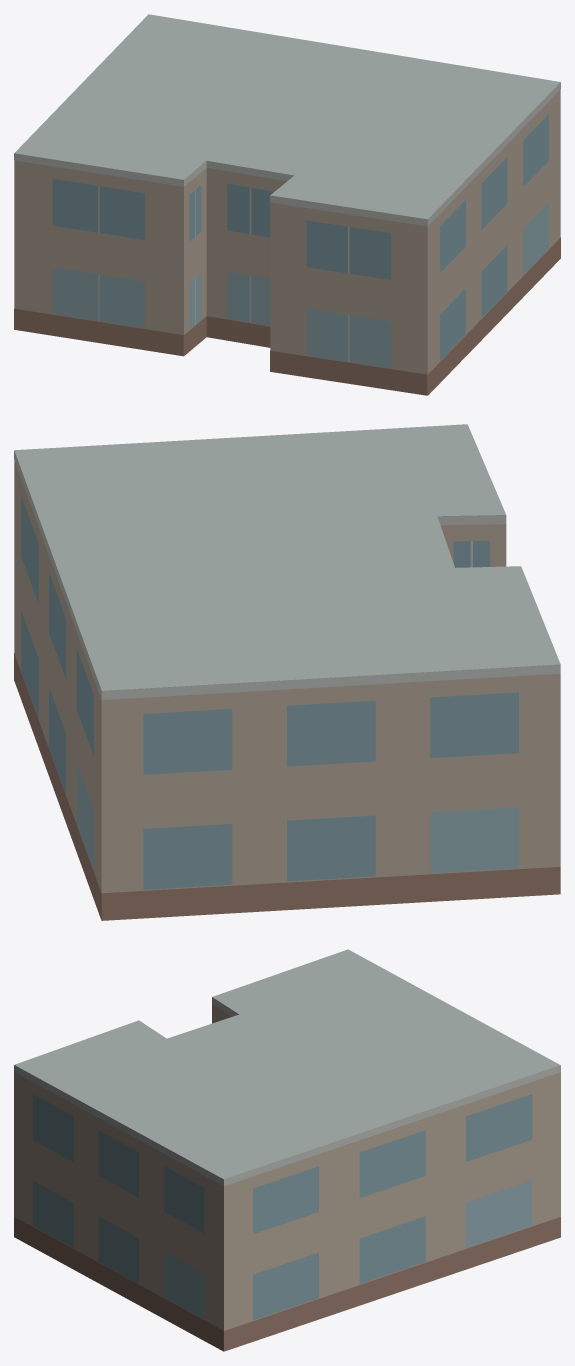
The model's file is survey-upis-32777106.glb.
3 views of the same model, one above another, from view 1: azimuth 30°, elevation 25°; view 2: azimuth 150°, elevation 25°; view 3: azimuth 270°, elevation 25° (orthographic). The views are drawn at different scales.
Parts seen in each view (by area): view 1: survey-upis-32777106.tmp; view 2: survey-upis-32777106.tmp; view 3: survey-upis-32777106.tmp.
Part boxes in pixels (x1,y1,x2,y2): survey-upis-32777106.tmp: (14,14,560,395); survey-upis-32777106.tmp: (14,424,560,920); survey-upis-32777106.tmp: (14,949,560,1351).
Bounding box in the file's own units: 17.49 × 6.1 × 17.56.
